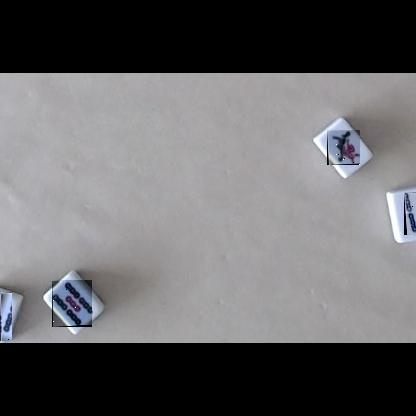1s: (327, 130, 360, 165)
2s: (404, 192, 416, 235)
4s: (0, 292, 12, 341)
5s: (52, 280, 92, 327)
